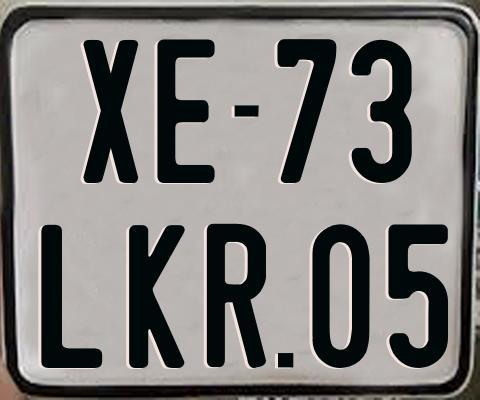0: (311, 223, 370, 369)
3: (349, 38, 410, 183)
5: (387, 223, 448, 368)
7: (277, 36, 341, 181)
E: (156, 36, 218, 180)
K: (126, 225, 188, 373)
L: (41, 223, 102, 370)
R: (204, 223, 266, 373)
X: (83, 40, 142, 187)
